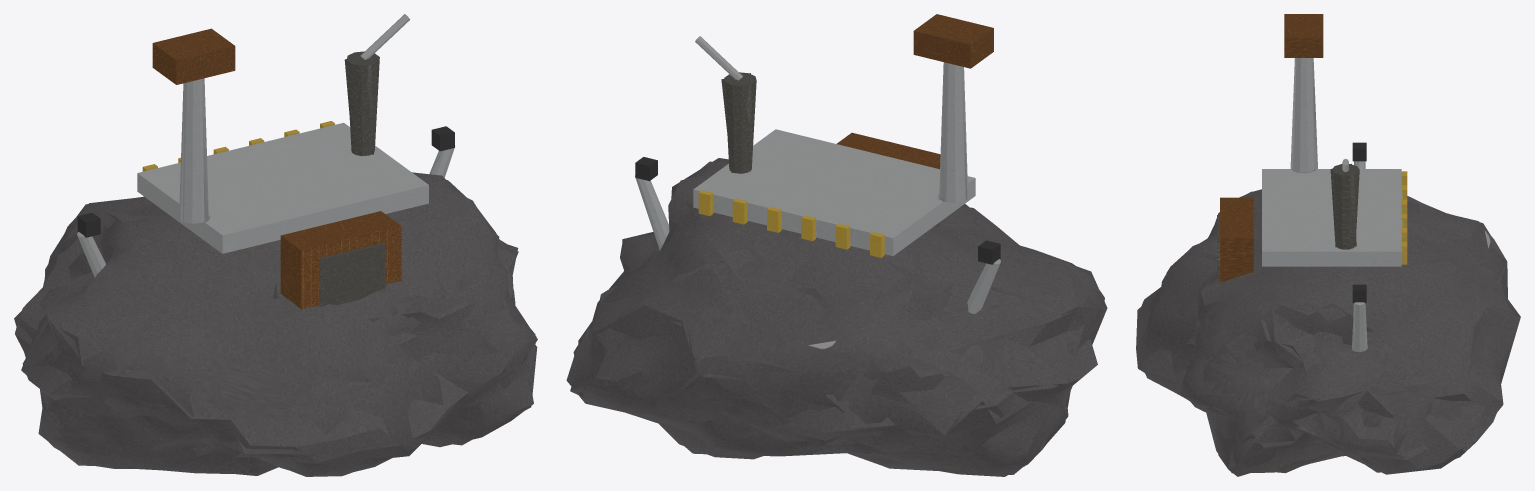
File: sd_prop_lair5.glb
The picture shows the model from 3 angles, left to right: view 1: azimuth 30°, elevation 25°; view 2: azimuth 150°, elevation 25°; view 3: azimuth 270°, elevation 25°; orthographic projection. The views are drawn at different scales.
Parts seen in each view (by area): view 1: LOD0_body, LOD1_body; view 2: LOD0_body, LOD1_body; view 3: LOD0_body, LOD1_body.
Part boxes in pixels (<box>): LOD0_body: <box>15,14,536,475</box>; LOD1_body: <box>14,15,537,476</box>; LOD0_body: <box>566,14,1104,476</box>; LOD1_body: <box>570,63,1107,474</box>; LOD0_body: <box>1137,14,1514,476</box>; LOD1_body: <box>1136,58,1520,474</box>.
Bounding box in the file's own units: 1 × 0.8637 × 0.8428.
Materials: 1 (1 with a texture image).
